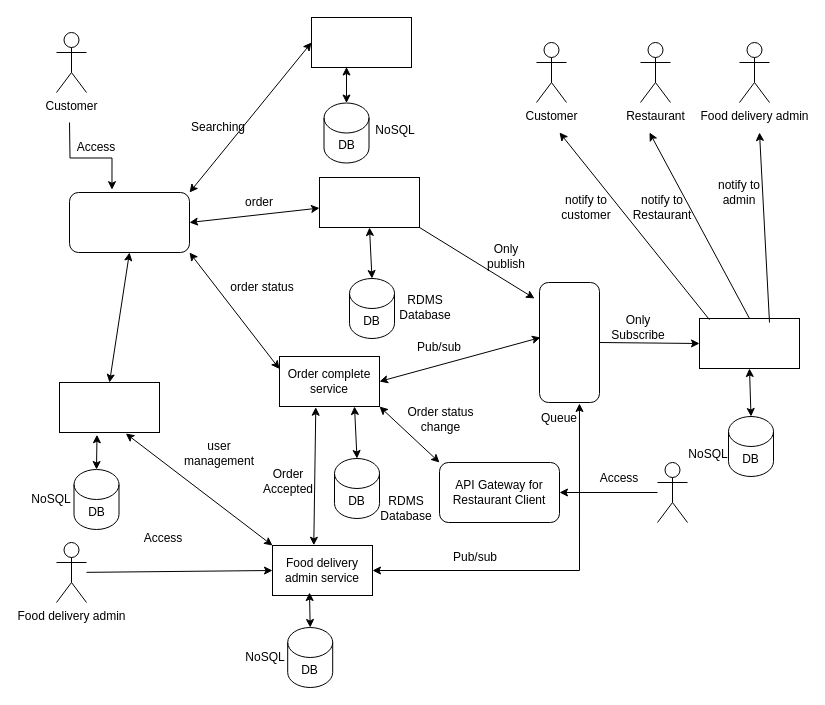
Some shapes in this 825 by 705 pixel diagram are drawn without their labels. Here are the shapes that lost their labels. From the top down, the box of each, then its label:
(310, 16, 412, 68): Item search
(68, 192, 190, 252): API Gateway for Customer
(318, 176, 420, 228): Order service
(538, 282, 600, 402): Kafka cluster
(698, 318, 800, 368): Notification service
(58, 382, 160, 432): User account
(656, 462, 688, 522): Restaurants
